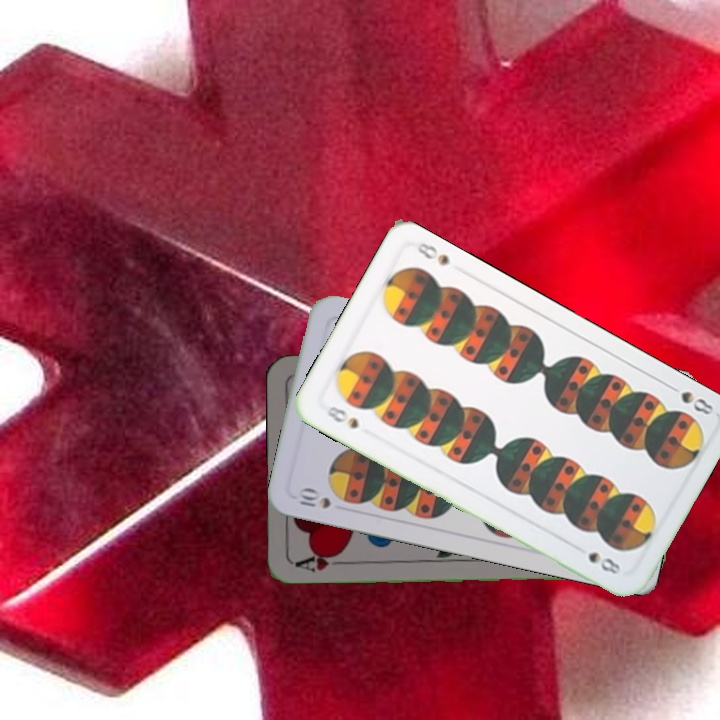HA: (292, 548, 351, 575)
S10: (295, 484, 333, 511)
S8: (662, 379, 716, 418), (322, 402, 361, 432)
